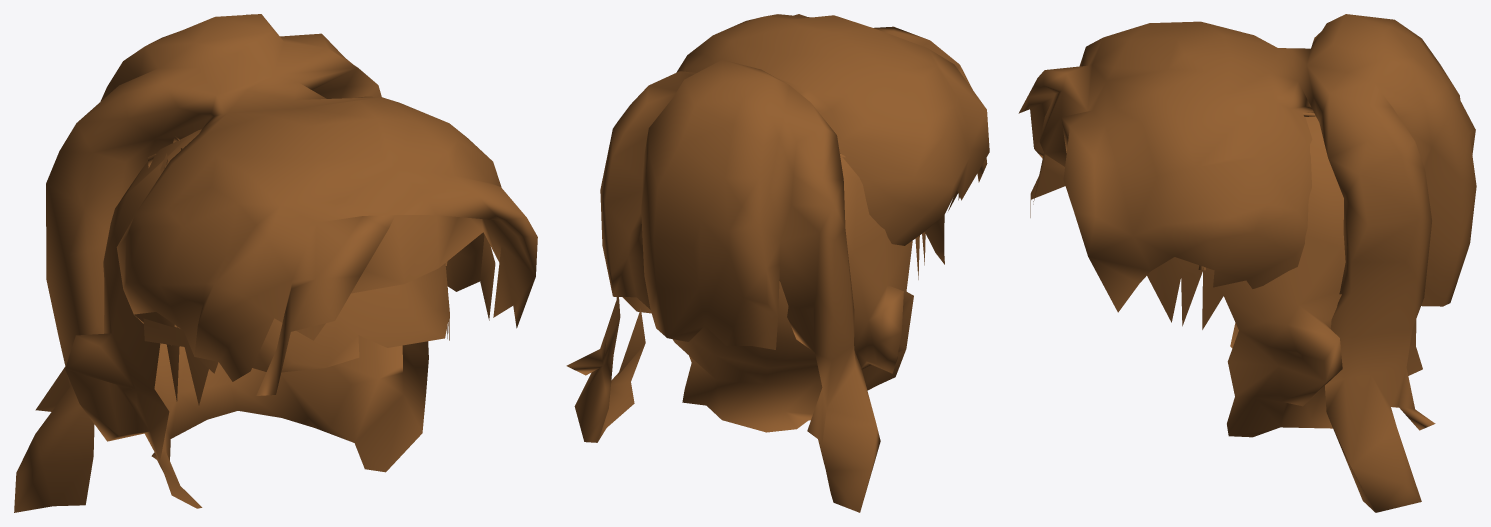
Rendered from ponytail.glb.
3 views of the same model, side by side, from view 1: azimuth 30°, elevation 25°; view 2: azimuth 150°, elevation 25°; view 3: azimuth 270°, elevation 25° (orthographic). The views are drawn at different scales.
Parts seen in each view (by area): view 1: Hair, HairScalp; view 2: Hair, HairScalp; view 3: Hair, HairScalp.
Boxes of the visible parts, x1=… form: Hair: x1=14, y1=14, x2=537, y2=512; HairScalp: x1=65, y1=129, x2=449, y2=508; Hair: x1=566, y1=14, x2=989, y2=512; HairScalp: x1=622, y1=157, x2=925, y2=432; Hair: x1=1018, y1=14, x2=1476, y2=512; HairScalp: x1=1147, y1=116, x2=1345, y2=437.
Size of the model in its own units: 0.4724 by 0.5726 by 0.5732.
